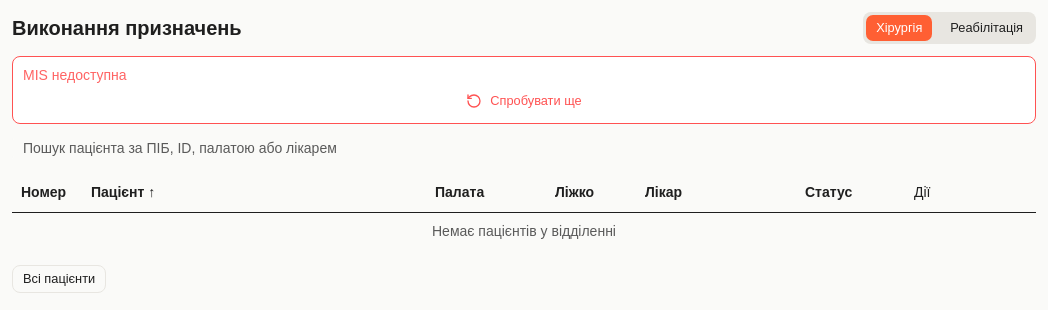
Test: NursePrescriptionPage › shows an error with retry that refetches the roster
Expected: the text "MIS недоступна" is shown, [23,67,127,83]
Click the button "Спробувати ще". click: (524, 101)
box: [23,87,1025,115]
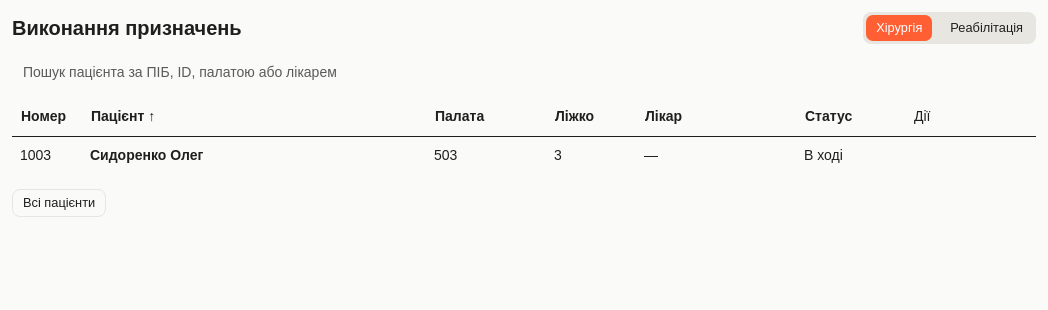
Expected: the text "Сидоренко Олег" is shown, [90,146,203,162]
